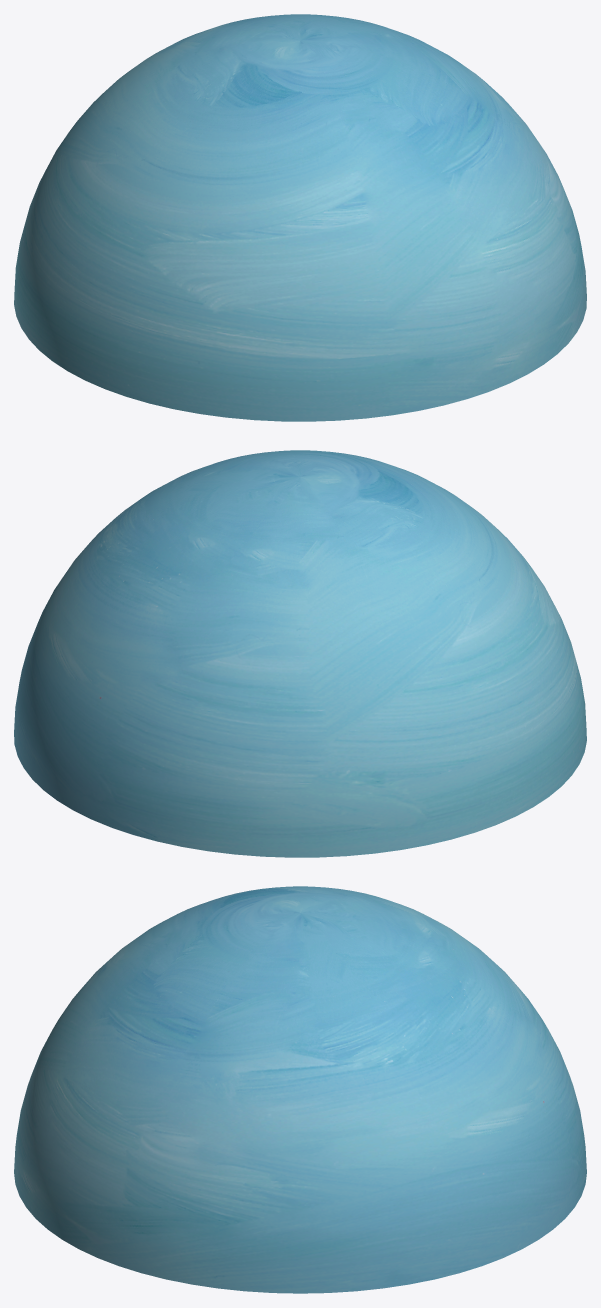
The model's file is SkyBox.fbx.
3 views of the same model, one above another, from view 1: azimuth 30°, elevation 25°; view 2: azimuth 150°, elevation 25°; view 3: azimuth 270°, elevation 25° (orthographic).
Visible parts, largest first — view 1: SM_skybox_01; view 2: SM_skybox_01; view 3: SM_skybox_01.
Part boxes in pixels (x1,y1,x2,y2): SM_skybox_01: (14,14,586,421); SM_skybox_01: (14,450,586,857); SM_skybox_01: (14,886,586,1293).
Bounding box in the file's own units: 144 × 72.13 × 144.
